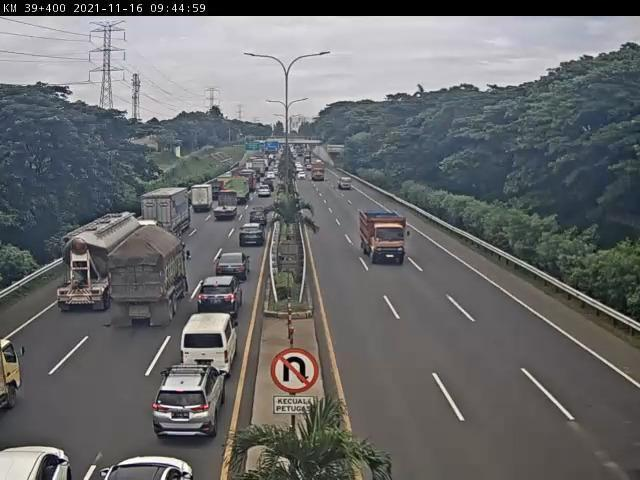car: (153, 367, 226, 437), (180, 316, 238, 374), (197, 276, 243, 315), (215, 258, 248, 284), (240, 225, 267, 250), (249, 208, 267, 227)
truck: (58, 213, 153, 311), (112, 226, 191, 330), (142, 187, 193, 244), (359, 213, 409, 266), (215, 189, 244, 221), (191, 182, 216, 213), (225, 178, 250, 205)
